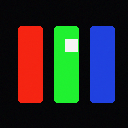1 square: (65, 39, 77, 51)
